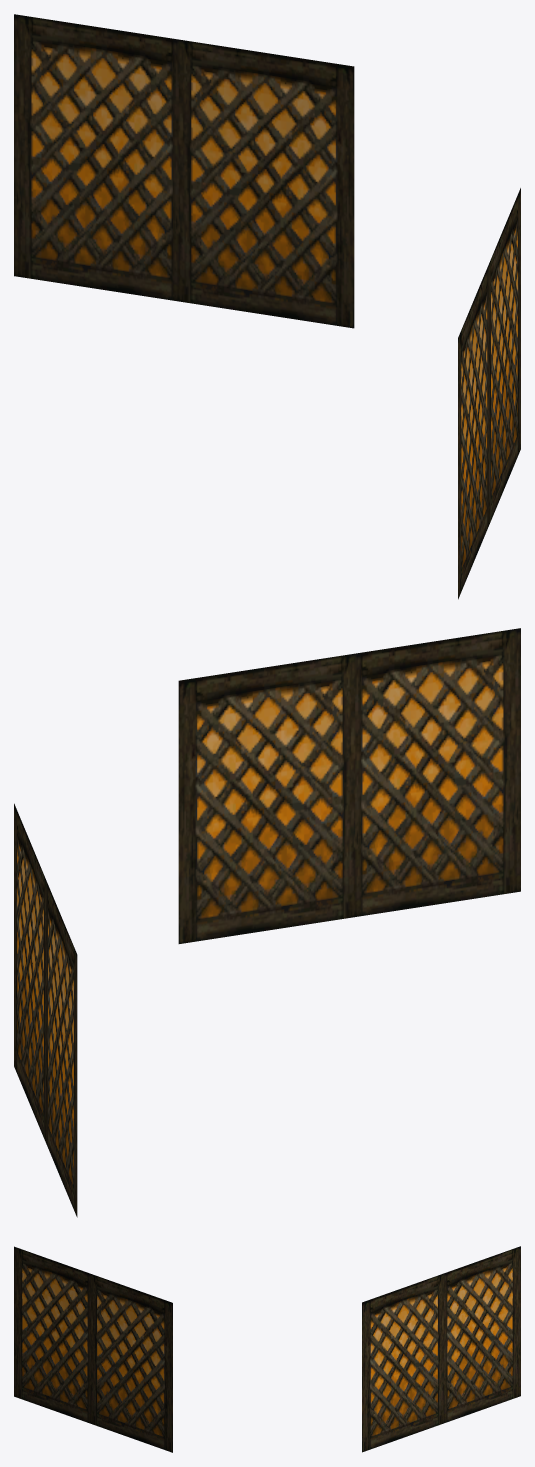
File: LAKETOWN_EXTERIOR_PS_LT_WINDOWS956.fbx
3 renders of one model, top to bottom at view 1: azimuth 30°, elevation 25°; view 2: azimuth 150°, elevation 25°; view 3: azimuth 270°, elevation 25°, orthographic. The views are drawn at different scales.
Parts seen in each view (by area): view 1: LAKETOWN_EXTERIOR_PS_LT_WINDOWS956; view 2: LAKETOWN_EXTERIOR_PS_LT_WINDOWS956; view 3: LAKETOWN_EXTERIOR_PS_LT_WINDOWS956.
Boxes of the visible parts, left/top/right/bottom form: LAKETOWN_EXTERIOR_PS_LT_WINDOWS956: left=14, top=14, right=520, bottom=599; LAKETOWN_EXTERIOR_PS_LT_WINDOWS956: left=14, top=628, right=520, bottom=1217; LAKETOWN_EXTERIOR_PS_LT_WINDOWS956: left=14, top=1246, right=520, bottom=1452.
Size of the model in its own units: 12665 by 15617 by 47827.
1 material, 1 textured.
